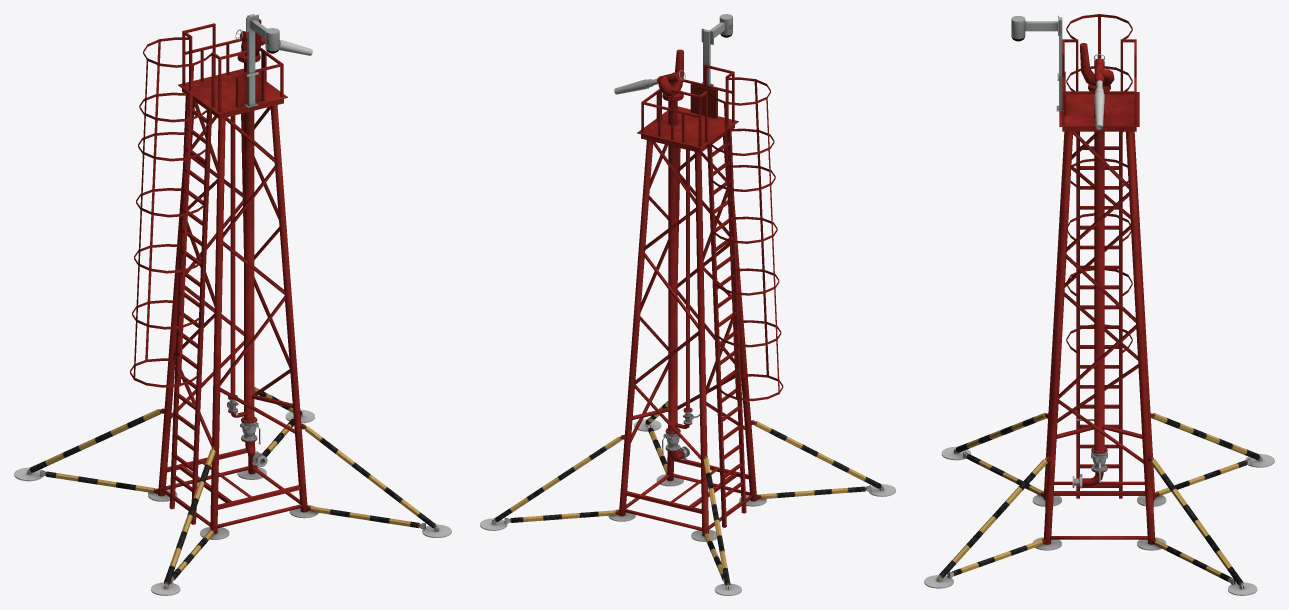
File: index.gltf
3 renders of one model, left to right at view 1: azimuth 30°, elevation 25°; view 2: azimuth 150°, elevation 25°; view 3: azimuth 270°, elevation 25°, orthographic. The views are drawn at different scales.
Parts seen in each view (by area): view 1: xiaofangpao; view 2: xiaofangpao; view 3: xiaofangpao.
Part boxes in pixels (x1,y1,x2,y2): xiaofangpao: [14, 14, 451, 595]; xiaofangpao: [480, 14, 895, 595]; xiaofangpao: [924, 14, 1274, 595].
Bounding box in the file's own units: 4.7 × 7.44 × 4.7.
1 material, 1 textured.
